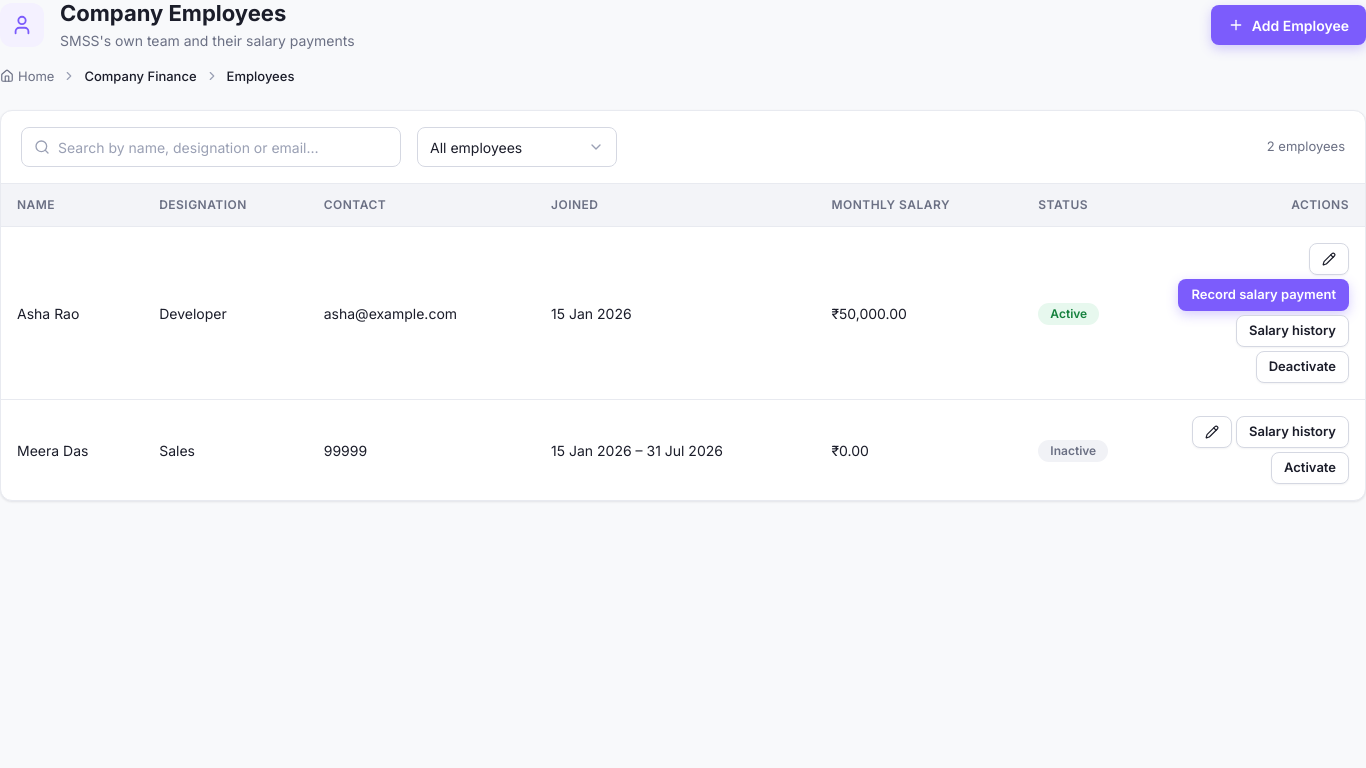
Test: CompanyEmployeesPageComponent › Edit opens the form with the employee's values and saves with PUT
Click the 2nd button: (1329,259) x1=1309 y1=243 x2=1349 y2=275
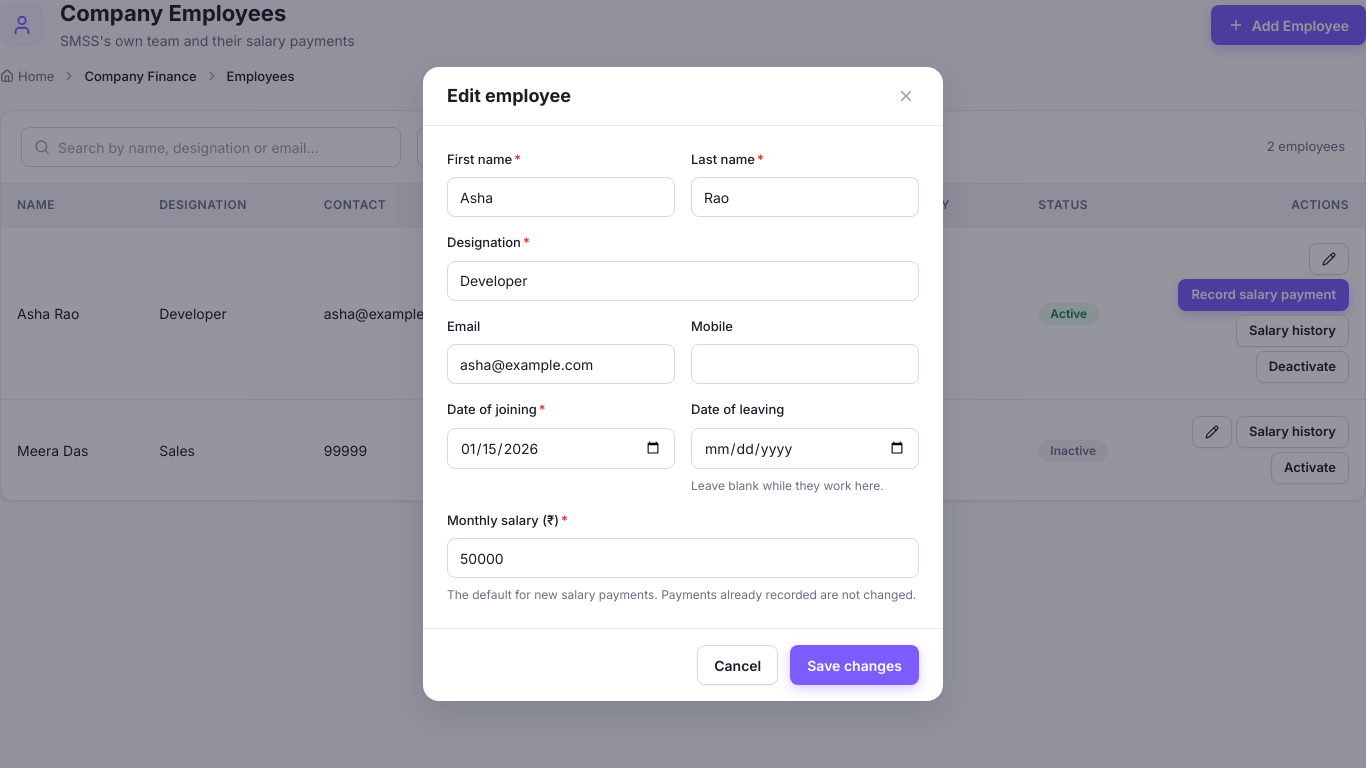
Check: the text "Edit employee" is shown, box x1=447 y1=84 x2=571 y2=107
